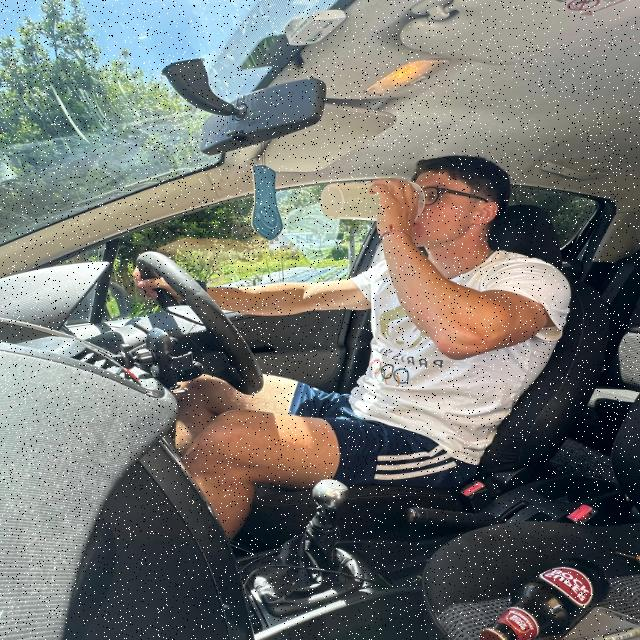Drinking: (281, 168, 453, 245)
